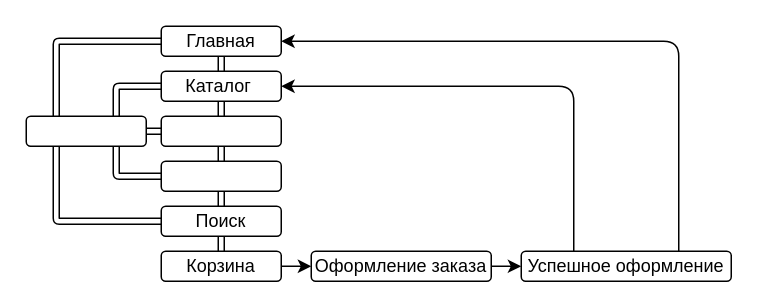
The diagram is 758 pixels wide and 308 high, and some of its shapes have lost their labels. Each missing label, with the centre of its shape:
Новинки: point 220,175
Популярное: point 220,130
Товар: point 85,130
